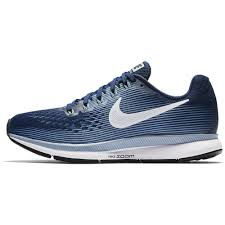nike: (108, 96, 191, 130)
